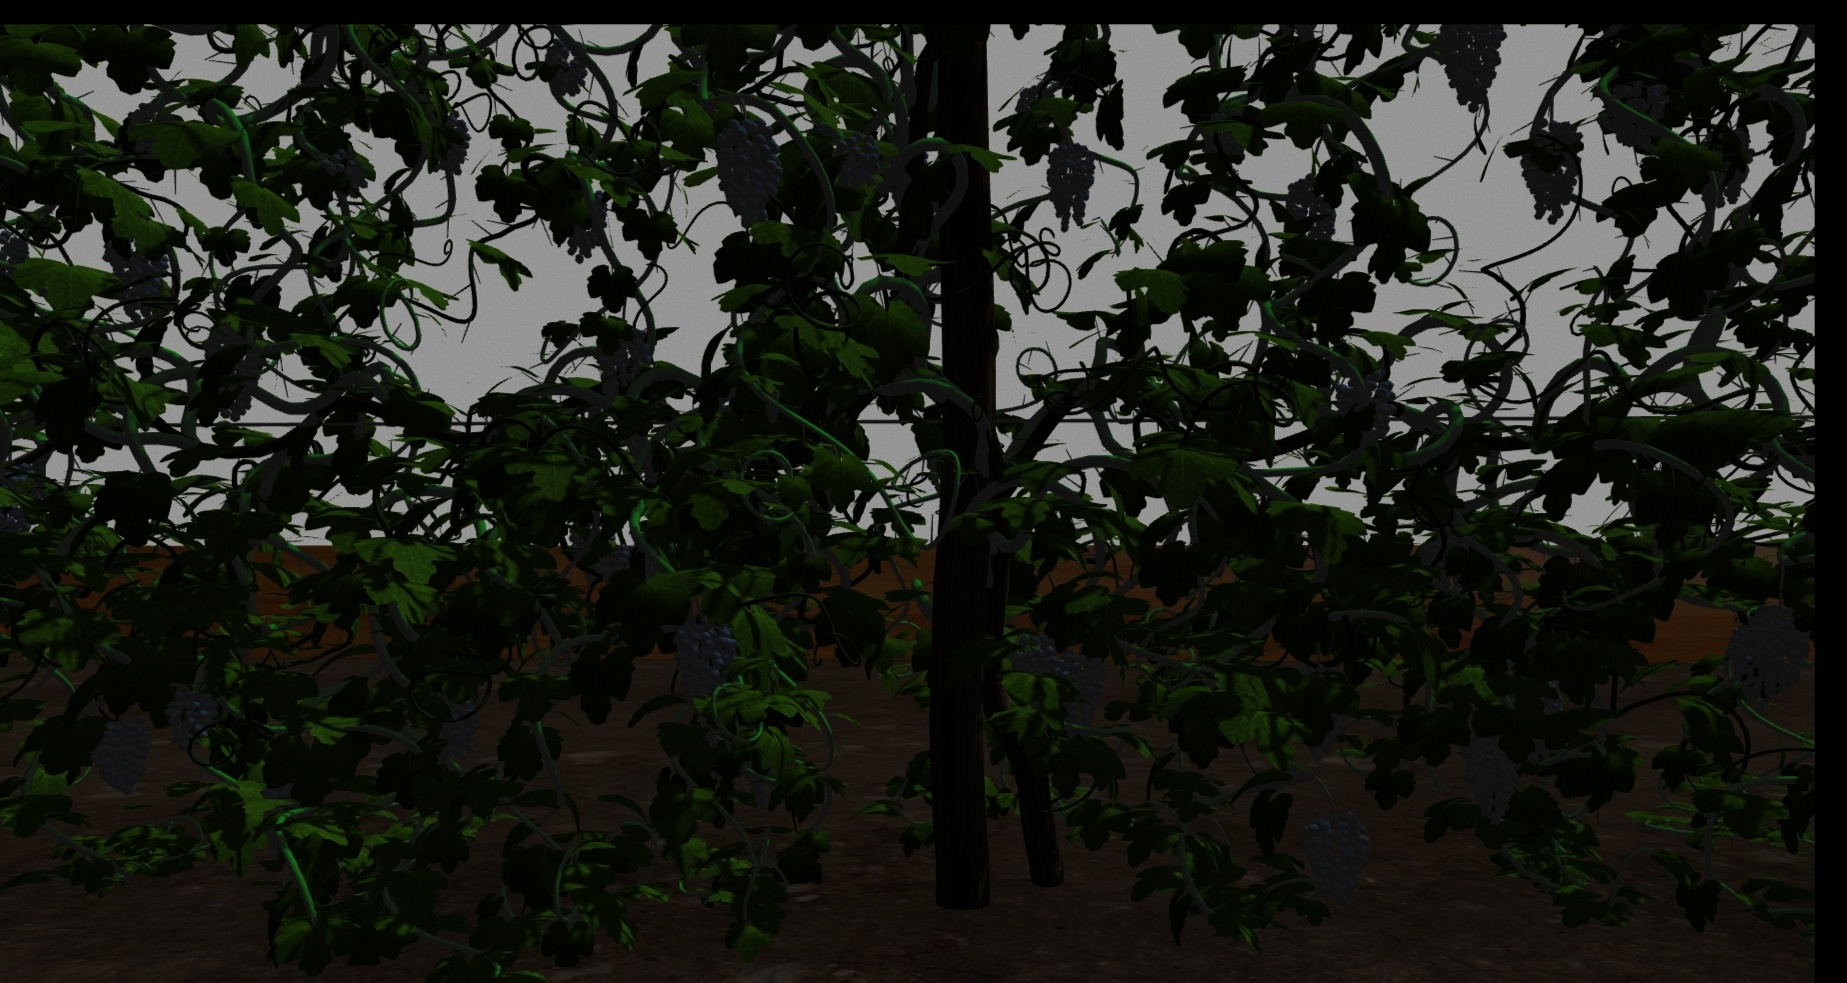grape: (1724, 604, 1809, 705), (713, 114, 779, 228), (1301, 810, 1372, 913), (1514, 118, 1582, 222), (1428, 24, 1507, 112), (1459, 714, 1518, 824), (104, 242, 173, 326), (87, 714, 154, 795), (669, 625, 737, 705), (202, 327, 259, 420), (1592, 83, 1669, 151), (1334, 368, 1397, 447), (591, 320, 652, 399), (1044, 142, 1093, 233), (1055, 648, 1106, 723), (1284, 175, 1335, 242), (162, 687, 217, 750), (428, 697, 479, 760), (832, 132, 880, 189), (318, 145, 369, 190), (1009, 634, 1055, 683), (544, 43, 584, 95)
